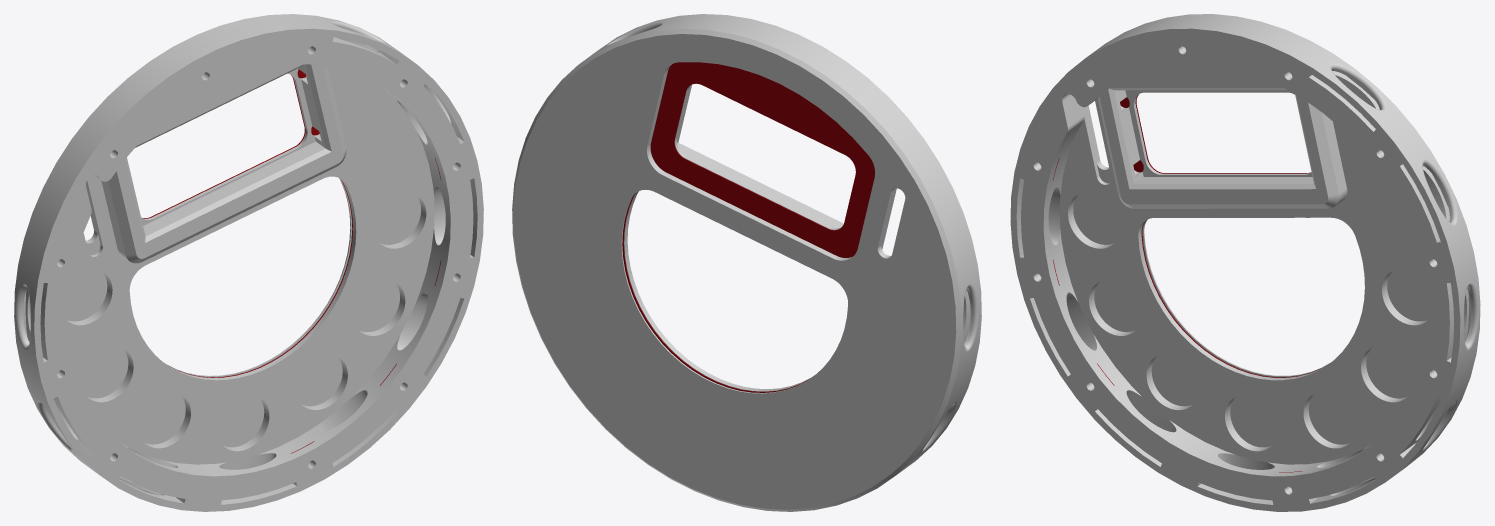
Rendered from Bottom_Housing_Compressed.glb.
3 renders of one model, left to right at view 1: azimuth 30°, elevation 25°; view 2: azimuth 150°, elevation 25°; view 3: azimuth 330°, elevation 25°, orthographic.
Parts seen in each view (by area): view 1: Housing_bottom; view 2: Housing_bottom, Magnet_cover, Mesh_printHelp; view 3: Housing_bottom.
Part boxes in pixels (box(x1,y1,x2,y2)): Housing_bottom: box(14, 14, 483, 511); Housing_bottom: box(512, 14, 981, 511); Magnet_cover: box(650, 62, 874, 257); Mesh_printHelp: box(622, 193, 807, 392); Housing_bottom: box(1010, 14, 1480, 511).
Bounding box in the file's own units: 0.129 × 0.129 × 0.011.
